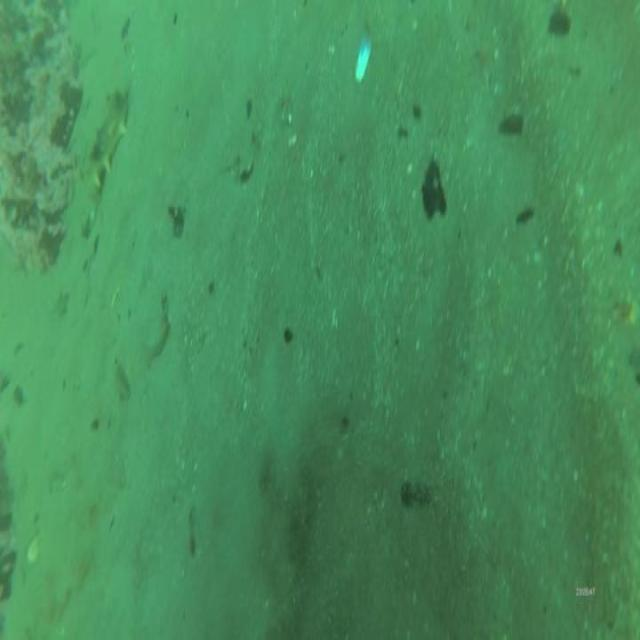holothurian: (78, 84, 135, 200)
